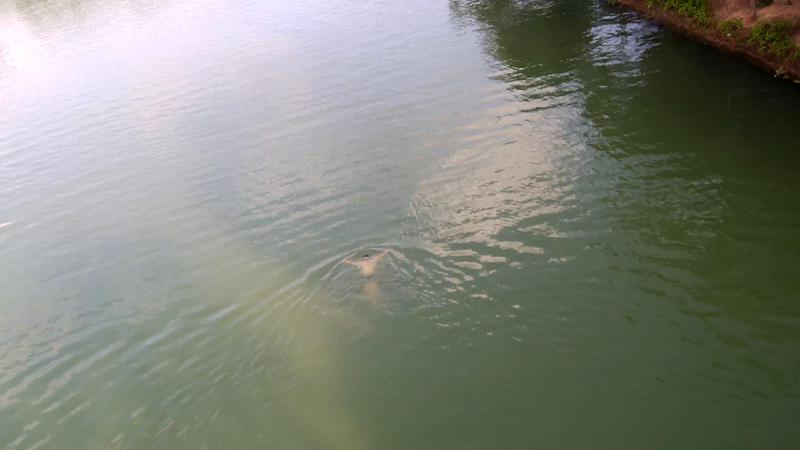swimmers: (336, 246, 398, 304)
